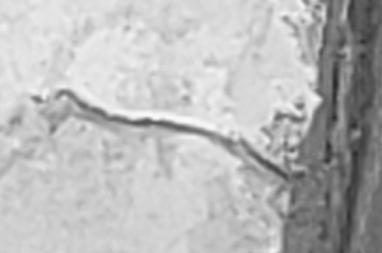crack: (0, 1, 382, 253)
